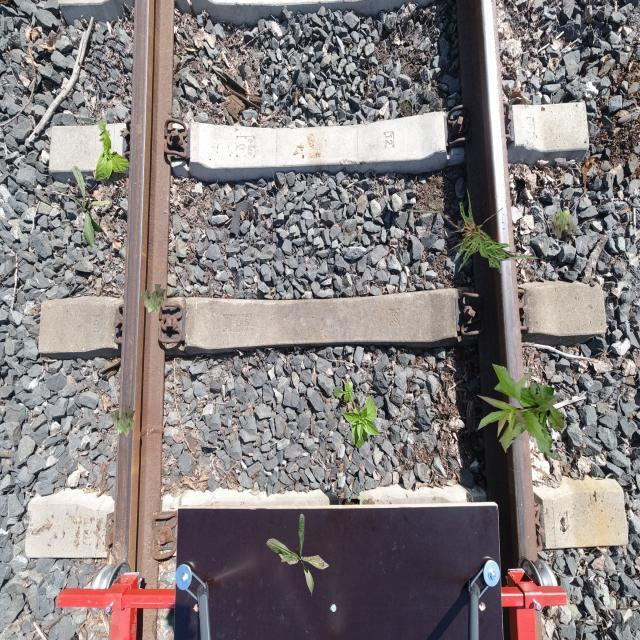Plant: (406, 186, 550, 276), (476, 363, 564, 460), (266, 514, 330, 598), (333, 379, 381, 450), (71, 165, 111, 248), (95, 119, 130, 182), (551, 207, 577, 239), (140, 284, 166, 316), (110, 405, 136, 437)
